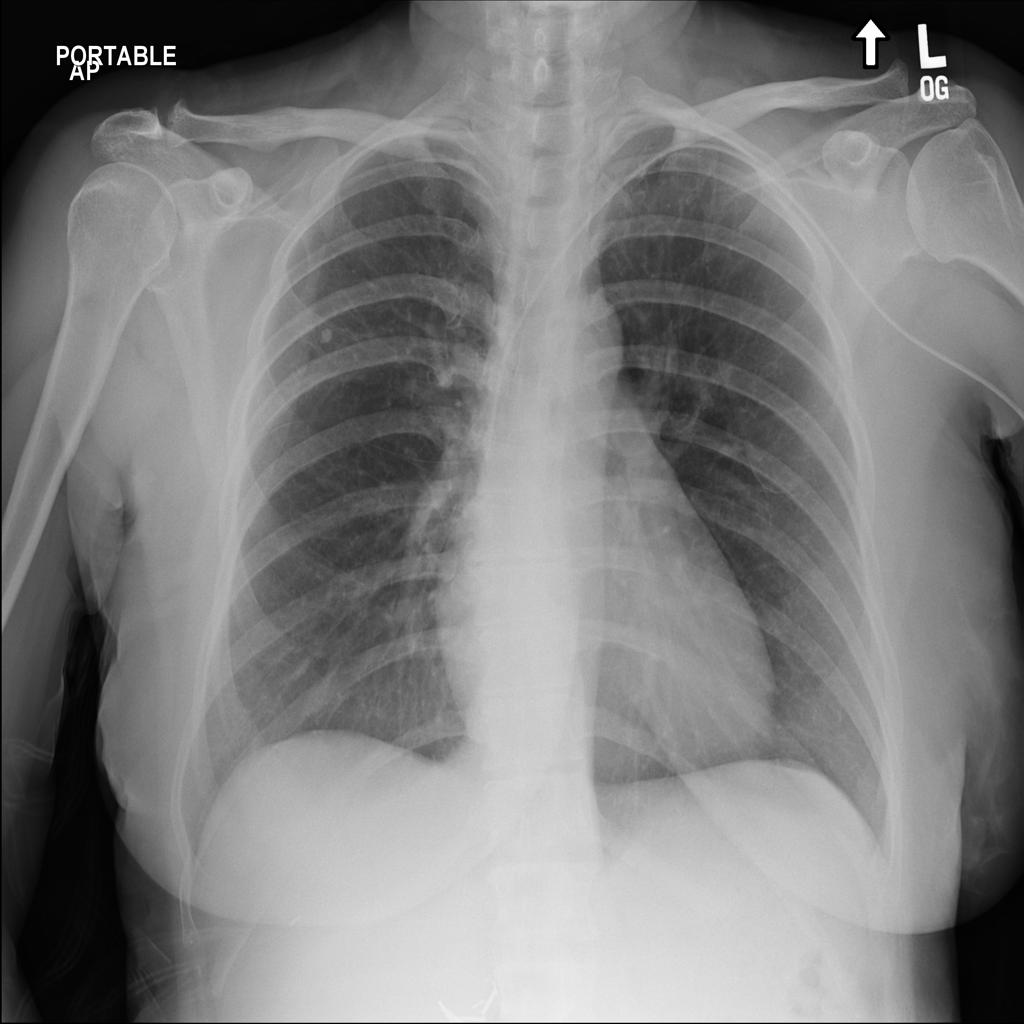nodule: (308, 317, 343, 355)
